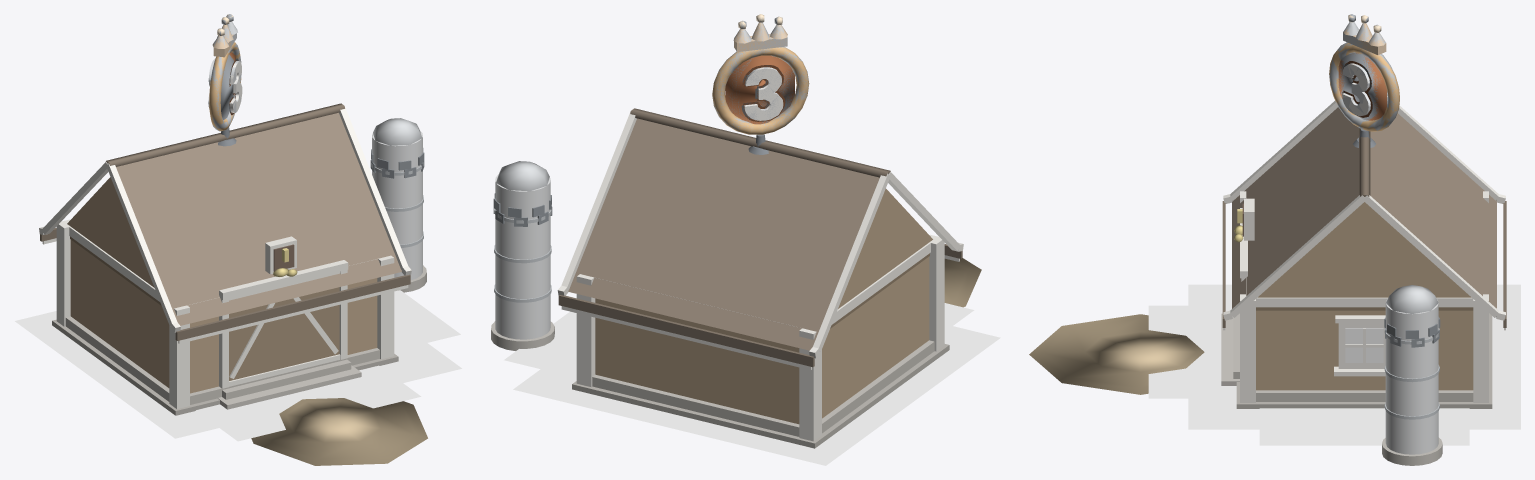
The model's file is barn_3.glb.
3 views of the same model, side by side, from view 1: azimuth 30°, elevation 25°; view 2: azimuth 150°, elevation 25°; view 3: azimuth 270°, elevation 25° (orthographic). The views are drawn at different scales.
Visible parts, largest first — view 1: body2, barn_3, spin_60_0, body; view 2: body2, barn_3, spin_60_0, body; view 3: body2, barn_3, spin_60_0, body.
Boxes of the visible parts, left/top/right/bottom form: body2: left=39, top=103, right=427, bottom=465; barn_3: left=15, top=290, right=461, bottom=441; spin_60_0: left=209, top=14, right=242, bottom=131; body: left=208, top=14, right=241, bottom=131; body2: left=491, top=108, right=981, bottom=448; barn_3: left=504, top=303, right=1000, bottom=465; spin_60_0: left=712, top=14, right=809, bottom=134; body: left=713, top=17, right=808, bottom=132; body2: left=1029, top=94, right=1506, bottom=465; barn_3: left=1148, top=284, right=1520, bottom=445; spin_60_0: left=1329, top=15, right=1399, bottom=131; body: left=1329, top=14, right=1398, bottom=130.
Bounding box in the file's own units: 3.21 × 2.85 × 3.71.
